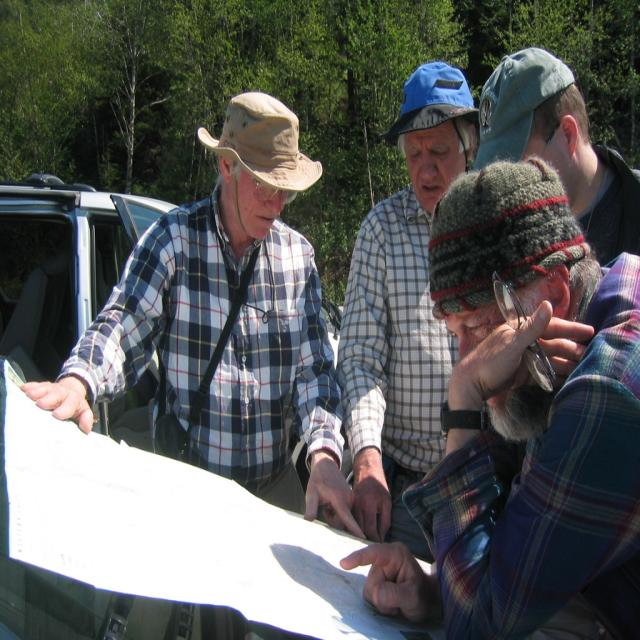Hat: (198, 90, 321, 233), (468, 46, 574, 170), (382, 62, 480, 156)
